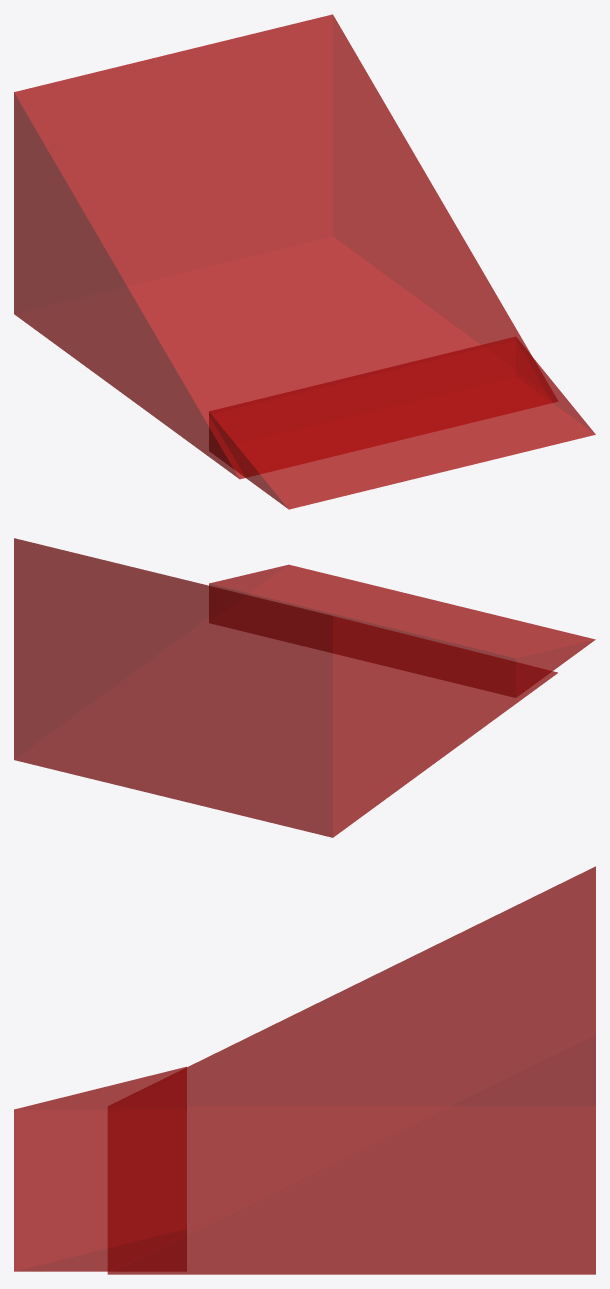
Rendered from SM_Prop_Ramp_Logs_02_Collision.fbx.
3 views of the same model, one above another, from view 1: azimuth 30°, elevation 25°; view 2: azimuth 150°, elevation 25°; view 3: azimuth 270°, elevation 25° (orthographic). The views are drawn at different scales.
Parts seen in each view (by area): view 1: SM_Prop_Ramp_Logs_02_Collision; view 2: SM_Prop_Ramp_Logs_02_Collision; view 3: SM_Prop_Ramp_Logs_02_Collision.
Boxes of the visible parts, x1,y1,x2,y2 form: SM_Prop_Ramp_Logs_02_Collision: (14, 14, 595, 509); SM_Prop_Ramp_Logs_02_Collision: (14, 538, 595, 837); SM_Prop_Ramp_Logs_02_Collision: (14, 866, 595, 1274).
Size of the model in its own units: 529 by 352 by 772.
